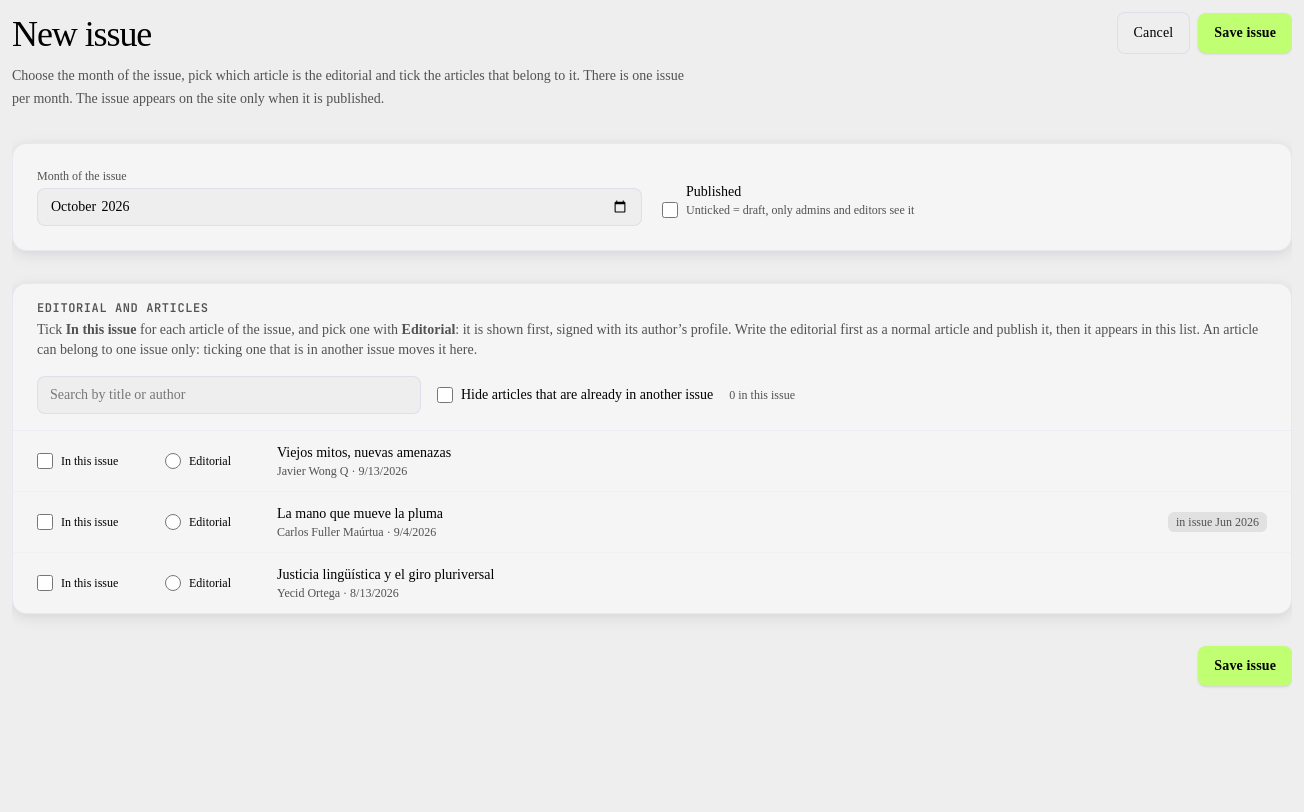
IssueForm (Admin → Issues) › finds articles by title or author
Type "fuller" into the field named "Search articles" at (229, 394), box [37,376,421,414]
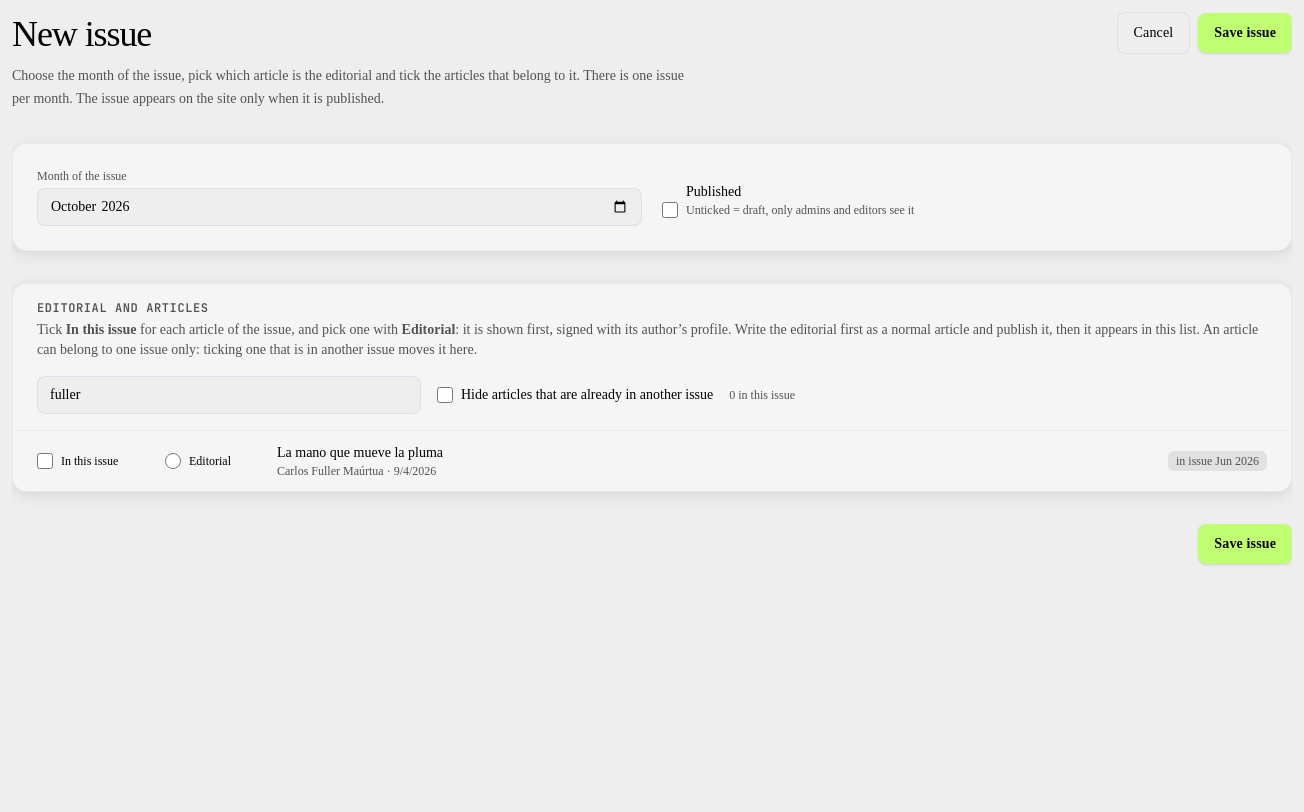
Expected: the text "La mano que mueve la pluma" is shown, [277,444,443,460]
Expected: the text "Viejos mitos, nuevas amenazas" is gone
